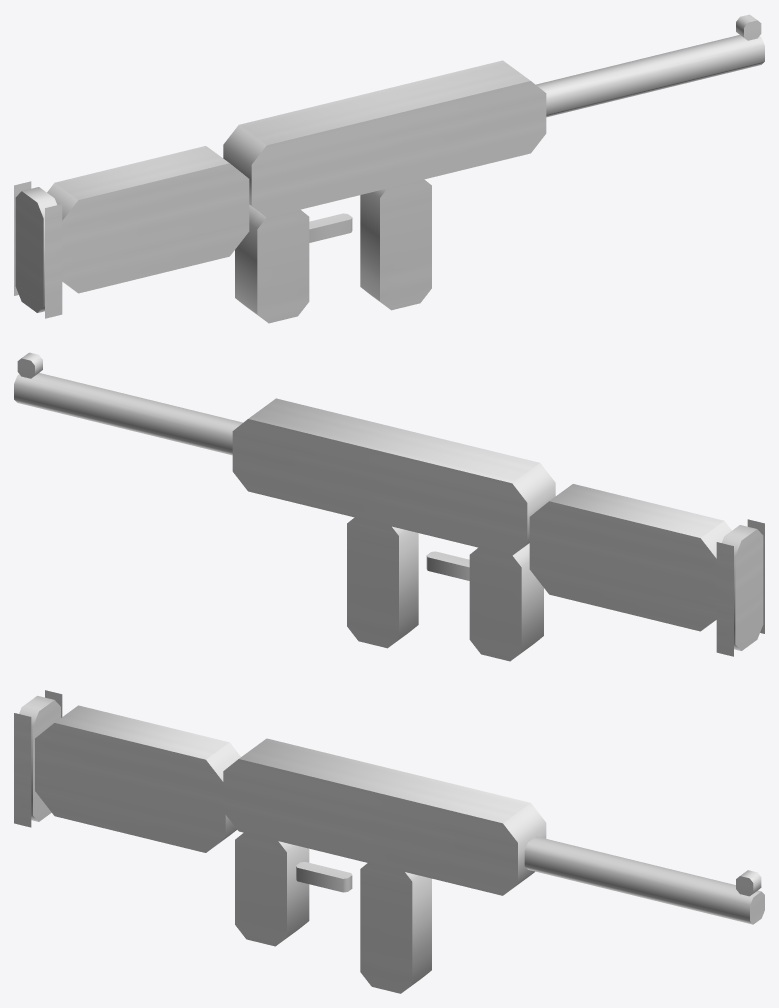
Rendered from assault_rifle.obj.
3 views of the same model, one above another, from view 1: azimuth 30°, elevation 25°; view 2: azimuth 150°, elevation 25°; view 3: azimuth 330°, elevation 25° (orthographic).
Visible parts, largest first — view 1: source_part_00, source_part_03, source_part_09, source_part_01, source_part_07, source_part_04, source_part_05, source_part_08, source_part_02; view 2: source_part_00, source_part_03, source_part_09, source_part_01, source_part_07, source_part_04, source_part_06, source_part_08, source_part_02; view 3: source_part_00, source_part_03, source_part_01, source_part_09, source_part_07, source_part_05, source_part_04, source_part_08, source_part_02.
Boxes of the visible parts, <box> form: source_part_00: <box>223,60,546,217</box>; source_part_03: <box>47,146,249,293</box>; source_part_09: <box>360,179,431,310</box>; source_part_01: <box>536,35,764,117</box>; source_part_07: <box>235,205,309,323</box>; source_part_04: <box>15,187,56,312</box>; source_part_05: <box>45,204,62,318</box>; source_part_08: <box>309,213,352,242</box>; source_part_02: <box>736,14,761,40</box>; source_part_00: <box>232,398,555,555</box>; source_part_03: <box>529,484,731,631</box>; source_part_09: <box>347,517,418,648</box>; source_part_01: <box>14,373,242,455</box>; source_part_07: <box>469,543,543,661</box>; source_part_04: <box>722,525,763,650</box>; source_part_06: <box>716,542,733,656</box>; source_part_08: <box>426,551,469,580</box>; source_part_02: <box>17,352,42,378</box>; source_part_00: <box>223,738,546,895</box>; source_part_03: <box>35,705,240,852</box>; source_part_01: <box>524,836,764,924</box>; source_part_09: <box>360,863,431,993</box>; source_part_07: <box>235,833,309,946</box>; source_part_05: <box>14,713,31,827</box>; source_part_04: <box>19,695,60,821</box>; source_part_08: <box>296,862,352,892</box>; source_part_02: <box>736,870,761,896</box>.
Bounding box in the file's own units: 0.84 × 0.22 × 0.062.
